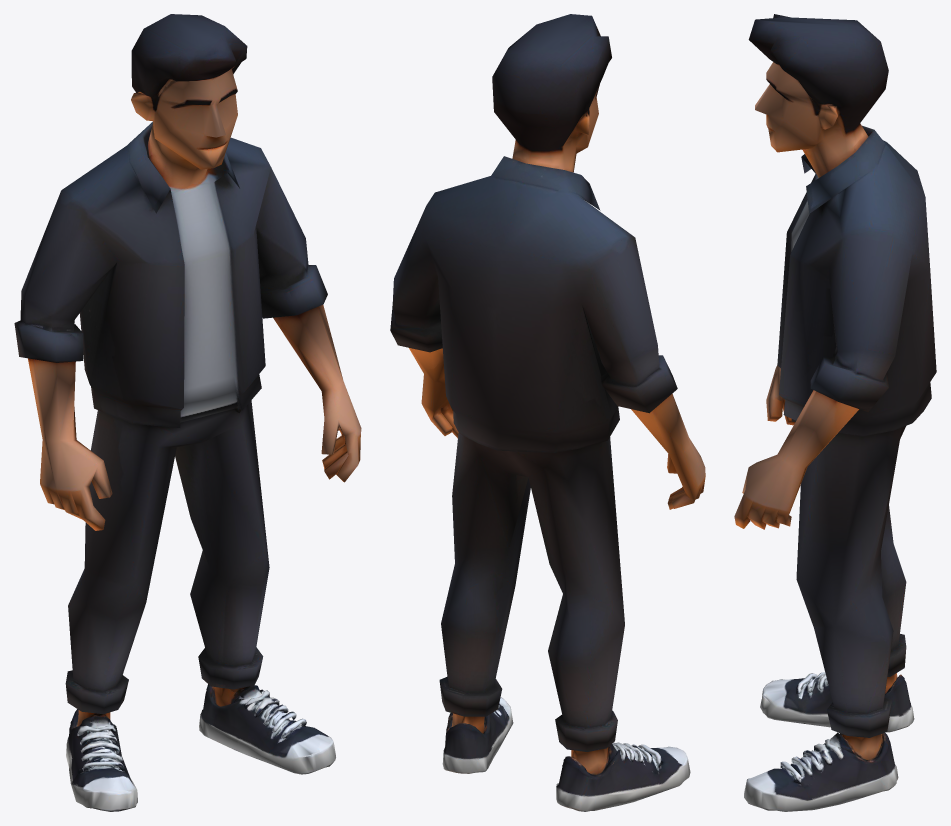
The model's file is selected.glb.
The picture shows the model from 3 angles, left to right: view 1: azimuth 30°, elevation 25°; view 2: azimuth 150°, elevation 25°; view 3: azimuth 270°, elevation 25°; orthographic projection. The views are drawn at different scales.
Visible parts, largest first — view 1: tripo_node_521b7e9d-6d4d-4483-b0cb-090c65df8475; view 2: tripo_node_521b7e9d-6d4d-4483-b0cb-090c65df8475; view 3: tripo_node_521b7e9d-6d4d-4483-b0cb-090c65df8475.
Part boxes in pixels (x1,y1,x2,y2): tripo_node_521b7e9d-6d4d-4483-b0cb-090c65df8475: [14, 14, 361, 811]; tripo_node_521b7e9d-6d4d-4483-b0cb-090c65df8475: [390, 14, 705, 811]; tripo_node_521b7e9d-6d4d-4483-b0cb-090c65df8475: [734, 14, 936, 811].
Size of the model in its own units: 0.416 by 0.998 by 0.248.
1 material, 1 textured.
